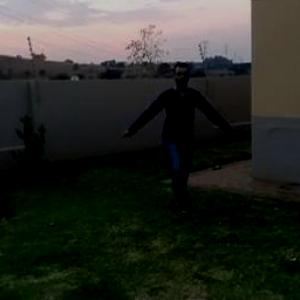land: (114, 58, 227, 204)
